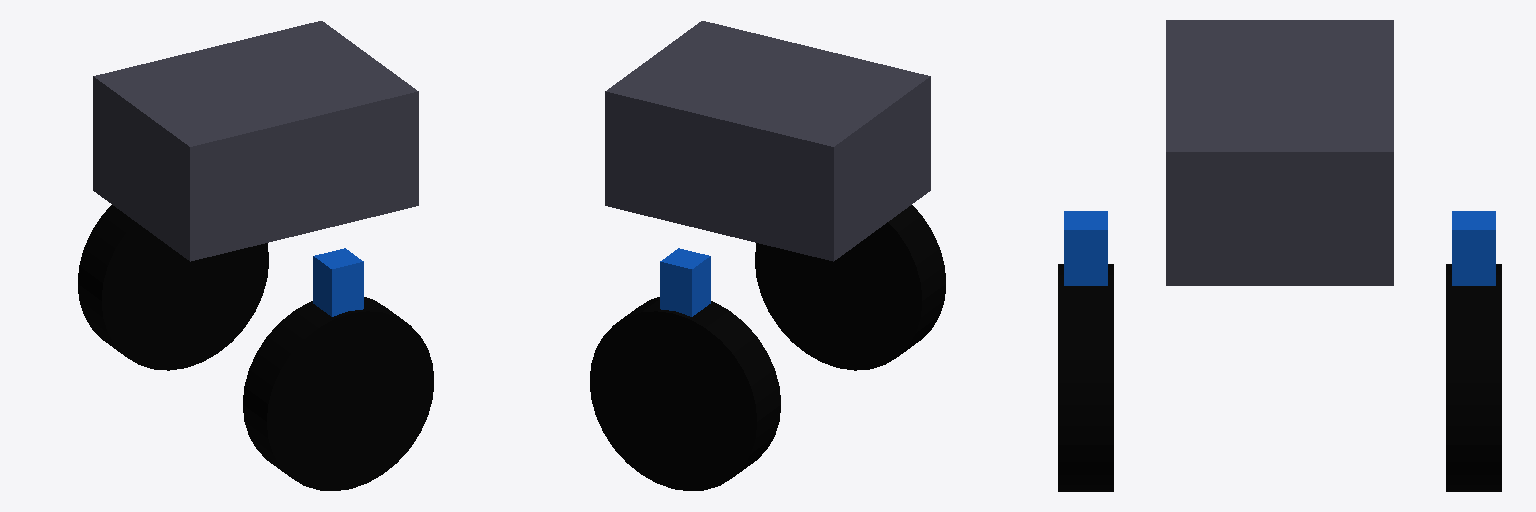
robot.urdf — biped:
<?xml version="1.0"?>
<!-- Stage-1 PHYSICS model of BipedV1 for Gazebo Harmonic.
     Simplified to a 2-wheel INVERTED PENDULUM: hips are FIXED, only the wheels
     move, so the body pitches on the wheel axle. Boxes + cylinders only.
     Numbers are the REAL robot (measured 2026-07-10); leg mass is an estimate.
     Frame: x = forward, y = left, z = up. Units: metres, kg, radians.
     Mass budget (total 8.62 kg): base 4.1 (chassis+battery+2 hip motors),
     each leg 0.5 (est.), each wheel 1.76 (1.36 bare + 0.396 GIM8108 hub). -->
<robot name="biped">

  <!-- ================= BASE (chassis) =================
       box 0.286 x 0.210 x 0.137 m, 4.1 kg
       ixx=m/12(y^2+z^2) iyy=m/12(x^2+z^2) izz=m/12(x^2+y^2) -->
  <link name="base_link">
    <visual>
      <geometry><box size="0.286 0.210 0.137"/></geometry>
      <material name="grey"><color rgba="0.3 0.3 0.35 1"/></material>
    </visual>
    <collision>
      <geometry><box size="0.286 0.210 0.137"/></geometry>
    </collision>
    <inertial>
      <mass value="4.1"/>
      <inertia ixx="0.02148" ixy="0" ixz="0" iyy="0.03436" iyz="0" izz="0.04302"/>
    </inertial>
  </link>

  <!-- ================= LEFT LEG =================
       Box 0.04 x 0.04 x 0.160 m, 0.5 kg. 0.160 m = the RETRACTED hip-to-wheel
       distance (leg-forward-kinematics memory: crank 20.28deg). The leg is a
       rigid box that TRANSLATES with the prismatic joint, so it is geometrically
       exact only at the retracted pose it spawns in; at full extension the rigid
       box leaves a cosmetic gap the real four-bar linkage would fill.
       Centre of the box is 0.160/2 = 0.080 below the (retracted) hip. -->
  <link name="left_leg">
    <visual>
      <origin xyz="0 0 -0.080"/>
      <geometry><box size="0.04 0.04 0.160"/></geometry>
      <material name="blue"><color rgba="0.1 0.4 0.8 1"/></material>
    </visual>
    <collision>
      <origin xyz="0 0 -0.080"/>
      <geometry><box size="0.04 0.04 0.160"/></geometry>
    </collision>
    <inertial>
      <origin xyz="0 0 -0.080"/>
      <mass value="0.5"/>
      <inertia ixx="0.001133" ixy="0" ixz="0" iyy="0.001133" iyz="0" izz="0.0001333"/>
    </inertial>
  </link>

  <!-- Hips are PRISMATIC: they SLIDE in a straight line, they do not bend.
       Positioned half the 0.358 m track out to +Y, at the bottom of the body
       (z = -0.137/2 = -0.0685).

       WHY NOT THE REAL FOUR-BAR LINKAGE: URDF describes a TREE — every link has
       exactly one parent. A four-bar is a closed RING, which a tree cannot
       express. That is structural, not a Gazebo bug. So we model the EFFECT the
       linkage has (centre of mass moves up and down) rather than the MECHANISM
       (bars pivoting). Balance only cares where the mass ends up.

       AXIS: 0 0 -1 is VERTICAL. (0 1 0 would be sideways — that slides the leg
       left/right and changes the stance width, not the height.) Negating z
       means a POSITIVE joint value slides the leg DOWN relative to the body =
       leg EXTENDS = robot stands TALLER. Positive-is-taller matches the
       "metres of extension" convention.

       UNITS: this joint is METRES of EXTENSION below the retracted stop. The
       real leg_controller works in motor OUTPUT TURNS; sim_leg_bridge converts
       via the real kinematics (leg-forward-kinematics memory), NOT a raw copy —
       0.194 turns of motor travel = 0.302 m here. Numbers do NOT transfer
       one-to-one, only through that map.

       LIMITS — from the real hard stops (leg-forward-kinematics):
         lower 0.0 m       RETRACTED hard stop (crank 20.28deg). 0 = retracted,
                           so the robot SPAWNS retracted/folded — which also
                           matches the real robot booting collapsed.
         upper 0.302 m     EXTENDED hard stop (crank ~90deg, full extension);
                           11.89" of wheel travel.
         effort 200 N      static hold is only ~42 N per leg (8.62 kg over two
                           legs); headroom left for dynamic loads.
         velocity 0.3 m/s  fast enough not to be the binding constraint.
       effort + velocity are REQUIRED on a prismatic <limit>.

       damping resists sliding velocity; it stops the unactuated joint from
       ringing against its limits before a controller is attached. -->
  <joint name="left_hip_joint" type="prismatic">
    <parent link="base_link"/>
    <child link="left_leg"/>
    <origin xyz="0 0.179 -0.0685"/>
    <axis xyz="0 0 -1"/>
    <limit lower="0.0" upper="0.302" effort="200.0" velocity="0.3"/>
    <dynamics damping="5.0" friction="0.0"/>
  </joint>

  <!-- ================= RIGHT LEG ================= (mirror of left_leg) -->
  <link name="right_leg">
    <visual>
      <origin xyz="0 0 -0.080"/>
      <geometry><box size="0.04 0.04 0.160"/></geometry>
      <material name="blue"><color rgba="0.1 0.4 0.8 1"/></material>
    </visual>
    <collision>
      <origin xyz="0 0 -0.080"/>
      <geometry><box size="0.04 0.04 0.160"/></geometry>
    </collision>
    <inertial>
      <origin xyz="0 0 -0.080"/>
      <mass value="0.5"/>
      <inertia ixx="0.001133" ixy="0" ixz="0" iyy="0.001133" iyz="0" izz="0.0001333"/>
    </inertial>
  </link>

  <!-- Mirror of left_hip_joint. Note the axis is IDENTICAL (0 0 -1), not
       mirrored: both legs must extend downward together. Only the mounting
       <origin> differs (-Y instead of +Y). Flipping this axis for "symmetry"
       would make one leg extend while the other retracts. -->
  <joint name="right_hip_joint" type="prismatic">
    <parent link="base_link"/>
    <child link="right_leg"/>
    <origin xyz="0 -0.179 -0.0685"/>
    <axis xyz="0 0 -1"/>
    <limit lower="0.0" upper="0.302" effort="200.0" velocity="0.3"/>
    <dynamics damping="5.0" friction="0.0"/>
  </joint>

  <!-- ================= LEFT WHEEL =================
       cylinder r 0.105, width 0.052, 1.76 kg, axle along Y.
       iyy=1/2 m r^2 (spin)  ixx=izz=1/12 m(3r^2+h^2) -->
  <link name="left_wheel">
    <visual>
      <origin rpy="1.5708 0 0"/>
      <geometry><cylinder radius="0.105" length="0.052"/></geometry>
      <material name="black"><color rgba="0.05 0.05 0.05 1"/></material>
    </visual>
    <collision>
      <origin rpy="1.5708 0 0"/>
      <geometry><cylinder radius="0.105" length="0.052"/></geometry>
    </collision>
    <inertial>
      <mass value="1.76"/>
      <inertia ixx="0.005239" ixy="0" ixz="0" iyy="0.009686" iyz="0" izz="0.005239"/>
    </inertial>
  </link>

  <!-- wheel 0.160 m below the hip at the RETRACTED pose; the prismatic joint
       then lowers it up to a further 0.302 m as the leg extends -->

  <joint name="left_wheel_joint" type="continuous">
    <parent link="left_leg"/>
    <child link="left_wheel"/>
    <origin xyz="0 0 -0.160"/>
    <axis xyz="0 1 0"/>
  </joint>

  <!-- ================= RIGHT WHEEL ================= -->
  <link name="right_wheel">
    <visual>
      <origin rpy="1.5708 0 0"/>
      <geometry><cylinder radius="0.105" length="0.052"/></geometry>
      <material name="black"><color rgba="0.05 0.05 0.05 1"/></material>
    </visual>
    <collision>
      <origin rpy="1.5708 0 0"/>
      <geometry><cylinder radius="0.105" length="0.052"/></geometry>
    </collision>
    <inertial>
      <mass value="1.76"/>
      <inertia ixx="0.005239" ixy="0" ixz="0" iyy="0.009686" iyz="0" izz="0.005239"/>
    </inertial>
  </link>

  <joint name="right_wheel_joint" type="continuous">
    <parent link="right_leg"/>
    <child link="right_wheel"/>
    <origin xyz="0 0 -0.160"/>
    <axis xyz="0 1 0"/>
  </joint>

  <!-- ================= IMU sensor on the body =================
       Gazebo computes true orientation + angular velocity + linear accel and
       publishes on gz topic /imu at 100 Hz; the ros_gz_bridge (in the launch
       file) republishes it as ROS sensor_msgs/Imu on /imu. Needs the
       gz-sim-imu-system plugin, which biped_world.sdf enables. -->
  <gazebo reference="base_link">
    <sensor name="imu_sensor" type="imu">
      <always_on>1</always_on>
      <update_rate>100</update_rate>
      <topic>imu</topic>
      <gz_frame_id>base_link</gz_frame_id>
    </sensor>
  </gazebo>

  <!-- ================= ros2_control interface =================
       Declares what each wheel joint exposes: an EFFORT command (torque in)
       and position/velocity state (encoder out). The <hardware> plugin is the
       swap point: gz_ros2_control in sim, your Pico CAN driver on real HW. -->
  <ros2_control name="GazeboSimSystem" type="system">
    <hardware>
      <plugin>gz_ros2_control/GazeboSimSystem</plugin>
    </hardware>
    <joint name="left_wheel_joint">
      <command_interface name="effort"/>
      <state_interface name="position"/>
      <state_interface name="velocity"/>
    </joint>
    <joint name="right_wheel_joint">
      <command_interface name="effort"/>
      <state_interface name="position"/>
      <state_interface name="velocity"/>
    </joint>

    <!-- Legs take a POSITION command, not effort: you tell a leg WHERE TO BE,
         not how hard to push. This mirrors the real robot, where the leg
         ODrives run in position mode while the wheels run in torque mode.
         Adding these means /joint_states now carries FOUR joints instead of
         two — safe, because balance_controller looks its wheels up by NAME
         (msg.name.index('left_wheel_joint')), not by array position. -->
    <joint name="left_hip_joint">
      <command_interface name="position"/>
      <state_interface name="position"/>
      <state_interface name="velocity"/>
    </joint>
    <joint name="right_hip_joint">
      <command_interface name="position"/>
      <state_interface name="position"/>
      <state_interface name="velocity"/>
    </joint>
  </ros2_control>

  <!-- Loads a controller_manager inside Gazebo, reading controllers.yaml.
       The __CONTROLLERS_YAML__ token is replaced with the real installed path
       by gazebo.launch.py (plain URDF can't do $(find ...) substitution). -->
  <gazebo>
    <plugin filename="gz_ros2_control-system"
            name="gz_ros2_control::GazeboSimROS2ControlPlugin">
      <parameters>__CONTROLLERS_YAML__</parameters>
      <!-- How a POSITION command interface is honoured. Without this,
           gz_ros2_control TELEPORTS the joint to the commanded position every
           cycle: infinitely stiff, infinitely fast, load has no effect. With
           it, the joint is driven at velocity = gain * (target - current), so
           the leg moves at a finite speed and sags under load — which is what
           makes "does the LQR survive a retraction" a meaningful question.
           Tune by observation: too low = the legs sag badly or never arrive;
           too high = they slam into the limits and the robot jumps. -->
      <position_proportional_gain>1.0</position_proportional_gain>
    </plugin>
  </gazebo>

</robot>

--- Render facts (derived) ---
Views: 3 orthographic renders of the robot side by side, from view 1: azimuth 30°, elevation 25°; view 2: azimuth 150°, elevation 25°; view 3: azimuth 270°, elevation 25°.
Model biped with 5 links and 4 joints (2 continuous, 2 prismatic), rooted at base_link, posed all joints at 0.
Visible links, largest first — view 1: base_link, right_wheel, left_wheel, right_leg; view 2: base_link, left_wheel, right_wheel, left_leg; view 3: base_link, left_wheel, right_wheel, left_leg, right_leg.
Boxes of the visible links, x1,y1,x2,y2 form: base_link: (93, 21, 418, 261); right_wheel: (243, 297, 433, 490); left_wheel: (78, 205, 268, 370); right_leg: (313, 248, 363, 316); base_link: (605, 21, 930, 261); left_wheel: (590, 297, 780, 490); right_wheel: (755, 205, 945, 370); left_leg: (660, 248, 710, 316); base_link: (1166, 20, 1393, 285); left_wheel: (1446, 264, 1501, 491); right_wheel: (1058, 264, 1113, 491); left_leg: (1452, 211, 1495, 285); right_leg: (1064, 211, 1107, 285).
Size in the robot's own frame: 0.286 by 0.41 by 0.402 metres.
Geometry: primitives only (box / cylinder / sphere), no mesh files.
